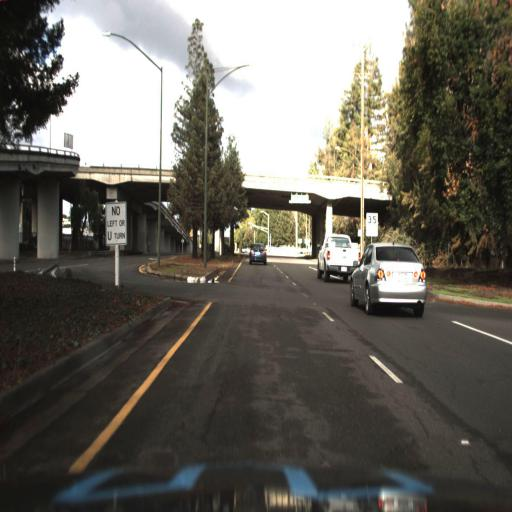car: (346, 238, 436, 315), (315, 230, 360, 286), (246, 240, 267, 268)
